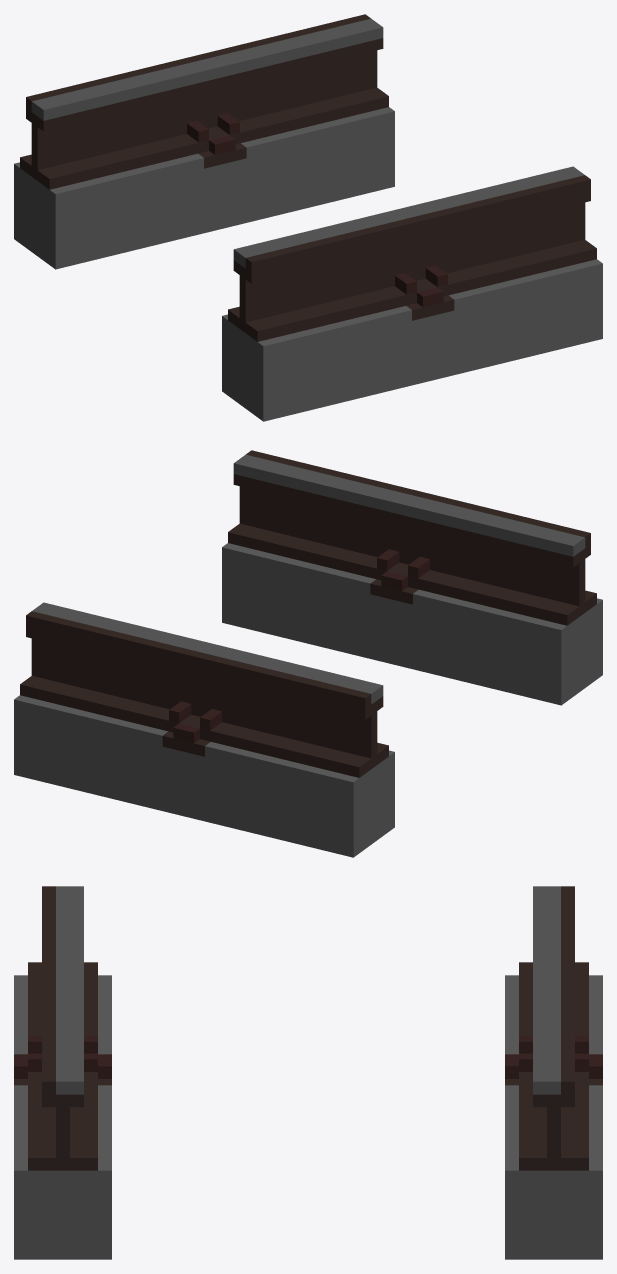
File: voxel-narrow-railsonly.obj
The picture shows the model from 3 angles, top to bottom: view 1: azimuth 30°, elevation 25°; view 2: azimuth 150°, elevation 25°; view 3: azimuth 270°, elevation 25°; orthographic projection. The views are drawn at different scales.
Visible parts, largest first — view 1: RAIL_BASE_1, RAIL_LEFT, RAIL_RIGHT, RAIL_BASE; view 2: RAIL_BASE_1, RAIL_RIGHT, RAIL_LEFT, RAIL_BASE; view 3: RAIL_BASE_1, RAIL_RIGHT, RAIL_LEFT, RAIL_BASE.
Boxes of the visible parts, <box> form: RAIL_BASE_1: <box>14,107,602,421</box>; RAIL_LEFT: <box>228,166,596,341</box>; RAIL_RIGHT: <box>20,14,388,189</box>; RAIL_BASE: <box>187,113,447,307</box>; RAIL_BASE_1: <box>14,543,602,857</box>; RAIL_RIGHT: <box>20,602,388,777</box>; RAIL_LEFT: <box>228,450,596,625</box>; RAIL_BASE: <box>169,549,429,743</box>; RAIL_BASE_1: <box>14,975,602,1259</box>; RAIL_RIGHT: <box>519,886,588,1170</box>; RAIL_LEFT: <box>28,886,97,1170</box>; RAIL_BASE: <box>14,1035,602,1078</box>.
Size of the model in its own units: 1.03 by 0.4375 by 1.31.
1 material, 1 textured.
